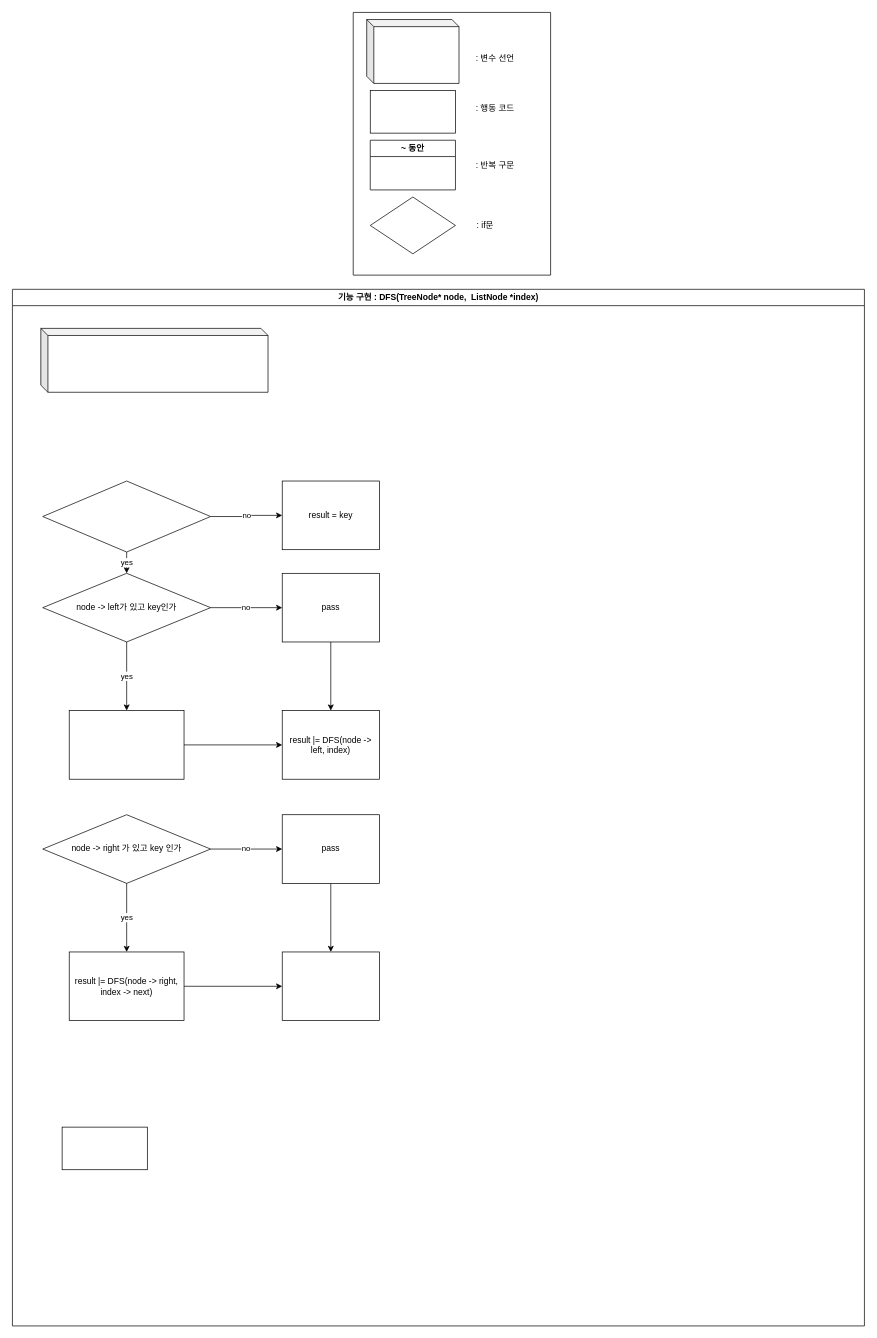
Some shapes in this 877 by 1338 pixel diagram are drawn without their labels. The shapes that lost their labels are listed below. From the top down, each one's box as (x1, y1, x2, y2) in pixels, then its label:
(40, 328, 268, 392): bool result = false bool key = index -> val == node -> val ;
(42, 480, 211, 552): index -> next가 있는가?
(69, 710, 184, 779): result |= DFS(node -> left, index -> next)
(282, 951, 379, 1021): result |= DFS(node -> right, index)
(61, 1126, 147, 1170): return result
